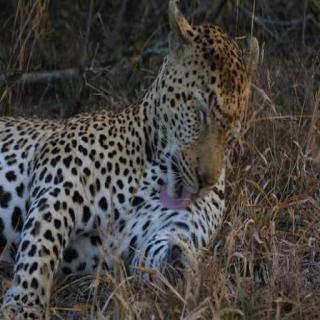Leopard: (0, 3, 282, 306)
